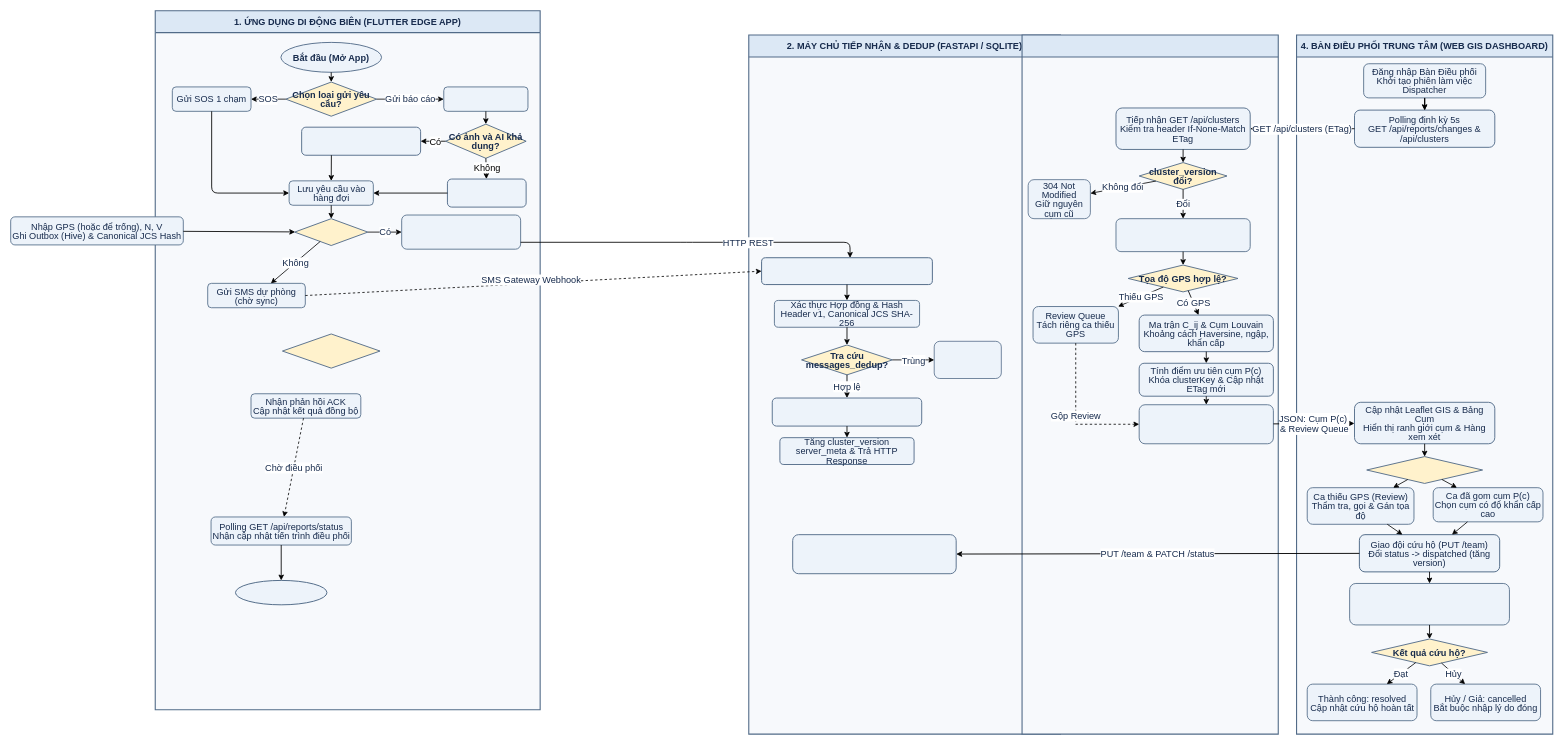
The diagram is 1564 pixels wide and 745 high, and some of its shapes have lost their labels. Each missing label, with the box of its shape:
3. LÕI PHÂN CỤM & ƯU TIÊN (RESCUE_CORE): (1021, 34, 1278, 734)
Bỏ qua nhận diện: (447, 178, 526, 207)
Có kết nối internet?: (294, 218, 368, 246)
Có mạng: REST / Multipart POST /sync batch hoặc /api/reports: (401, 214, 521, 249)
Cập nhật DB & Ghi report_events Nhật ký kiểm toán (actor, action, time): (792, 534, 956, 574)
Cổng Tiếp nhận (API Gateway) Sync Batch / Multipart / SMS Webhook: (761, 257, 933, 285)
Giao dịch SQLite (WAL Mode) Lưu reports, dedup, files uploads/: (772, 397, 922, 426)
Kết thúc (Được cứu): (235, 580, 327, 605)
Lấy báo cáo active_only Trích xuất [F, U, N, V] qua to_report_v2: (1115, 218, 1250, 252)
Máy chủ đã nhận thông tin?: (282, 333, 380, 368)
Nhận diện mức ngập từ ảnh => Lưu nhãn và độ tin cậy: (301, 126, 421, 155)
Nhập thông tin cứu hộ: (443, 86, 528, 111)
Phân loại ca xử lý?: (1366, 456, 1483, 484)
Trùng ID & Hash Trả ACK cũ (Idempotent): (934, 341, 1001, 379)
Trả JSON Clusters & Review Kèm header ETag cho Dashboard: (1138, 404, 1273, 444)
Đội Cứu hộ Thực địa Tác nghiệp Tiếp cận hiện trường & Triển khai ứng cứu: (1349, 583, 1510, 625)
